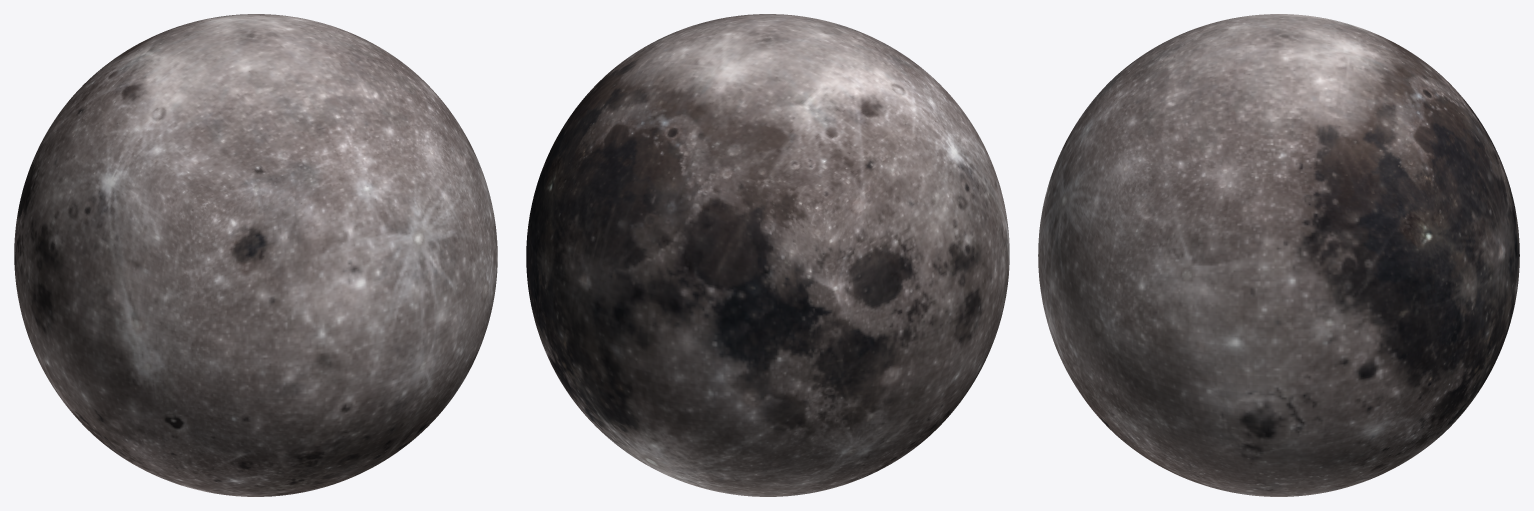
The model's file is luna.glb.
3 renders of one model, left to right at view 1: azimuth 30°, elevation 25°; view 2: azimuth 150°, elevation 25°; view 3: azimuth 270°, elevation 25°, orthographic.
Parts seen in each view (by area): view 1: mesh_0; view 2: mesh_0; view 3: mesh_0.
Boxes of the visible parts, box(x1,y1,x2,y2) form: mesh_0: box(14, 14, 497, 496); mesh_0: box(526, 14, 1009, 496); mesh_0: box(1038, 14, 1519, 496).
Bounding box in the file's own units: 0.02 × 0.02 × 0.02.
Materials: 1 (1 with a texture image).
